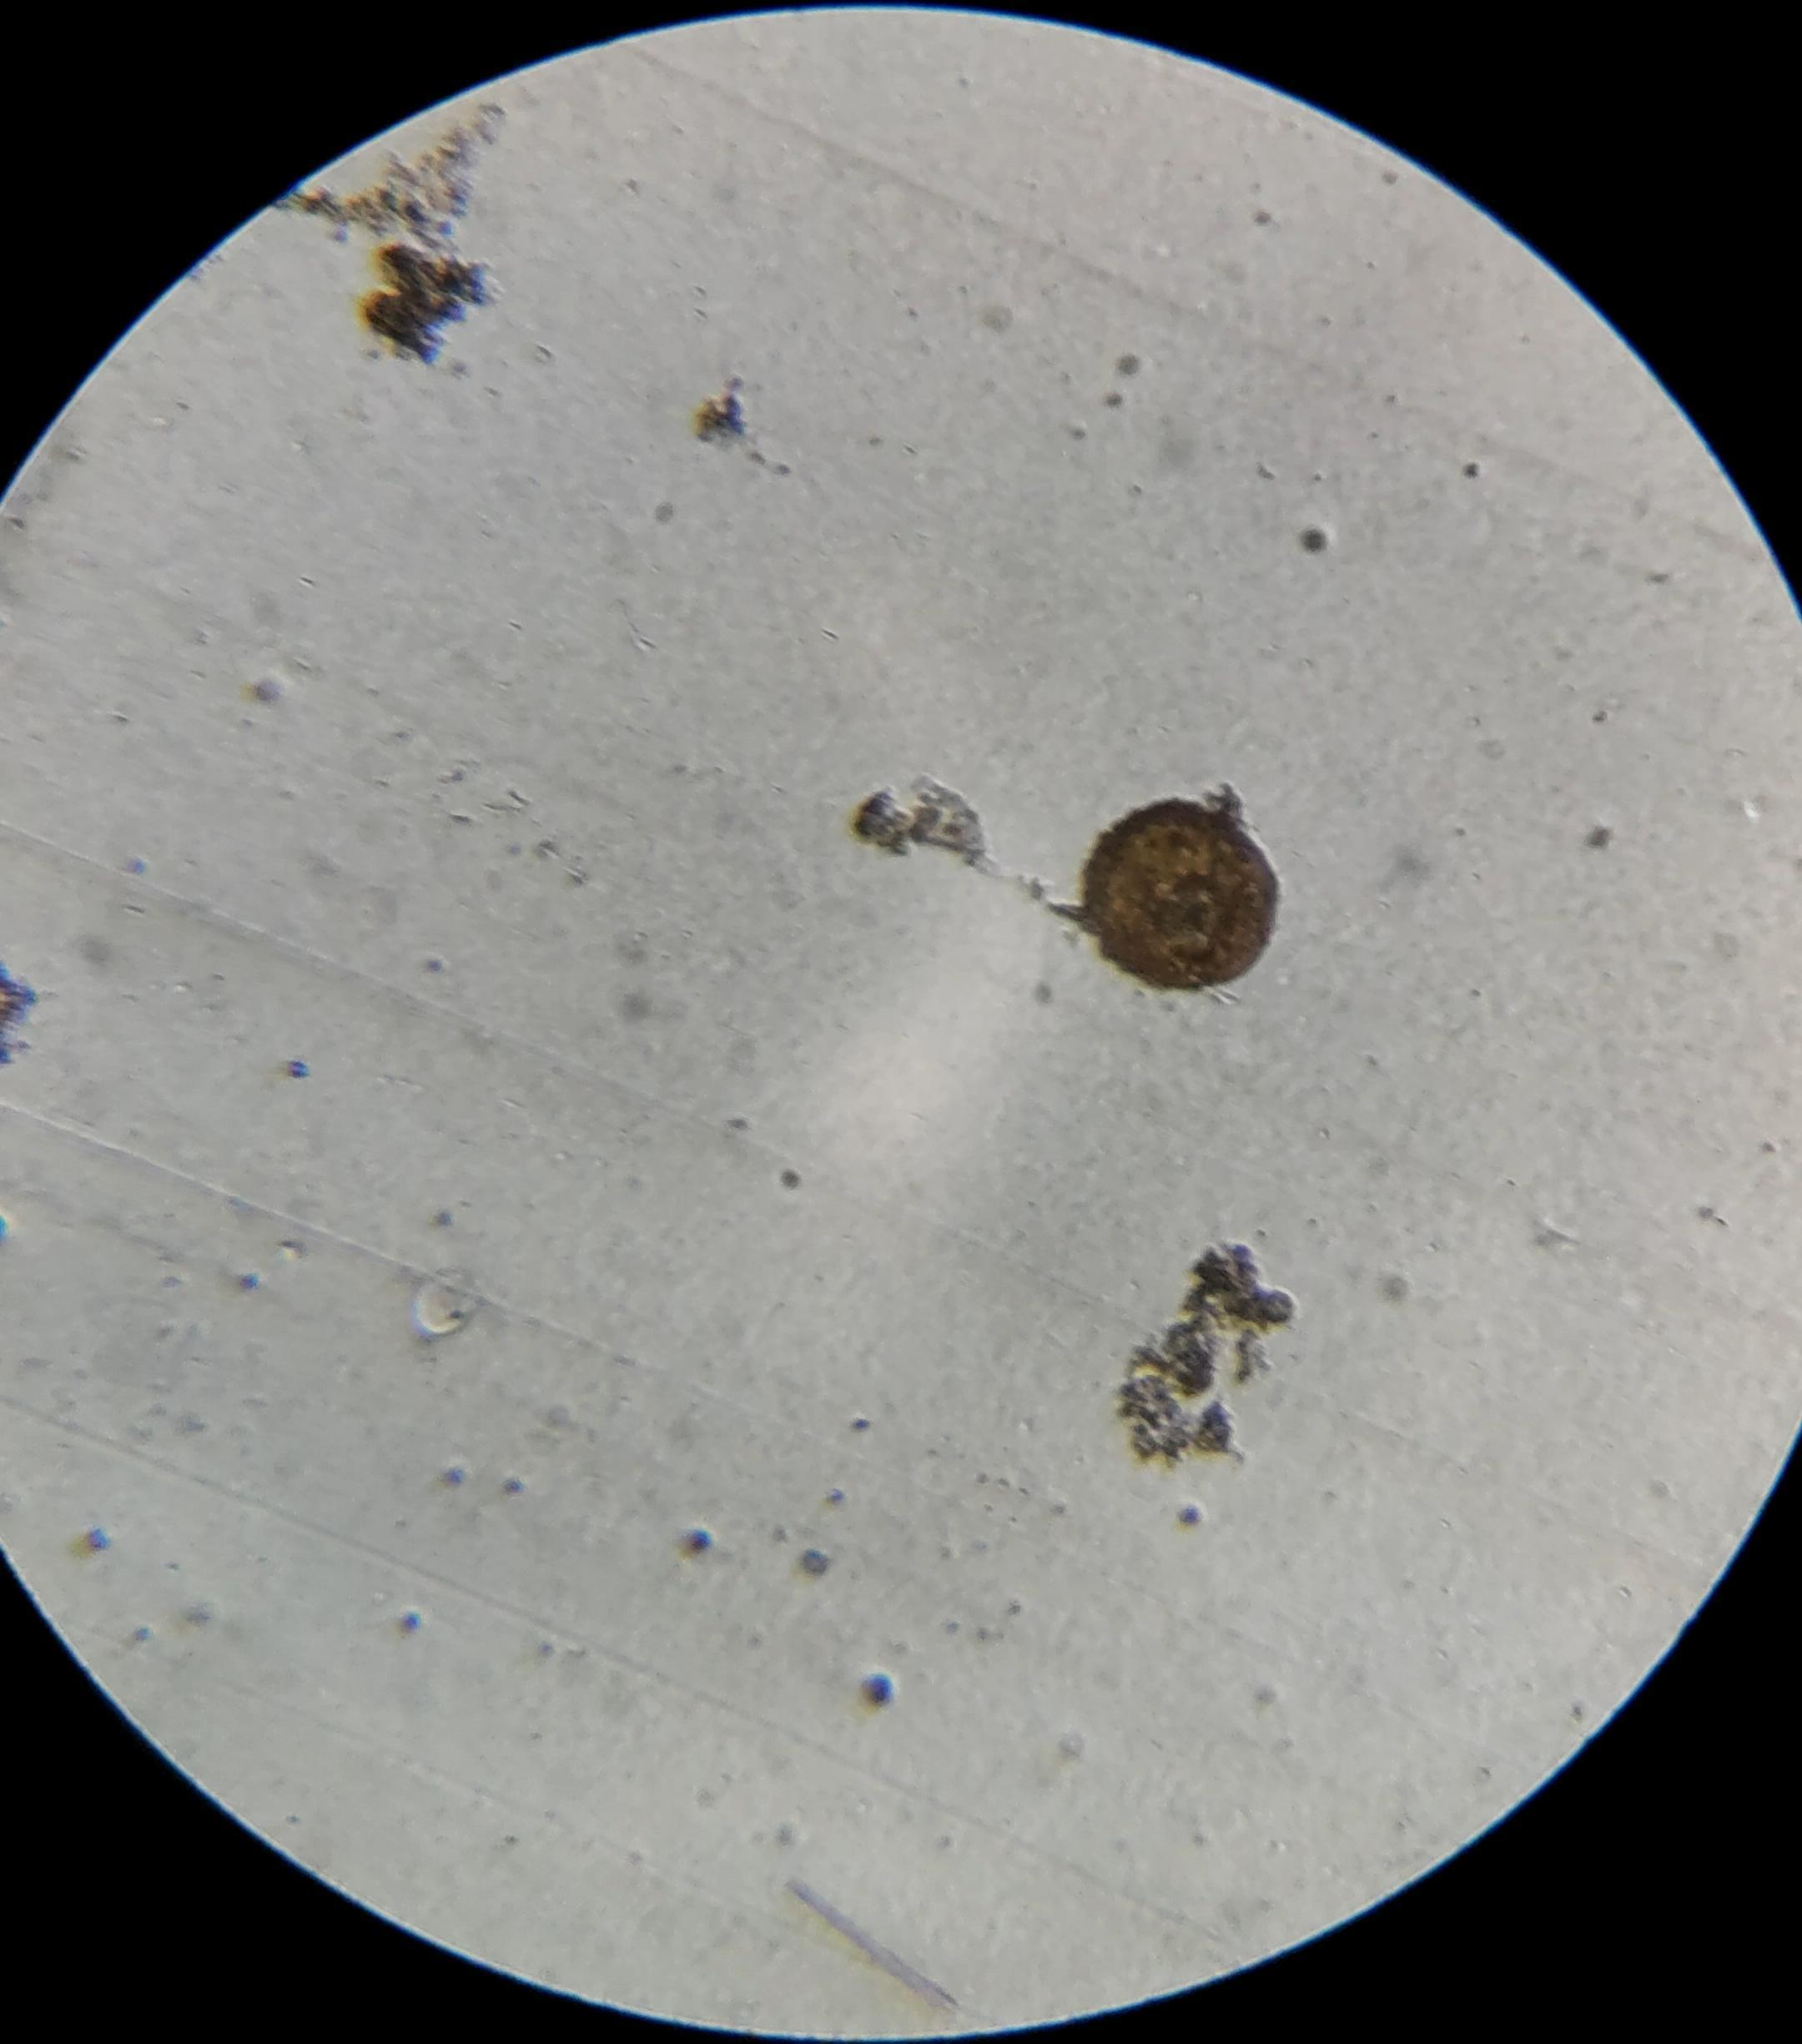Arcella: (1085, 800, 1277, 990)
